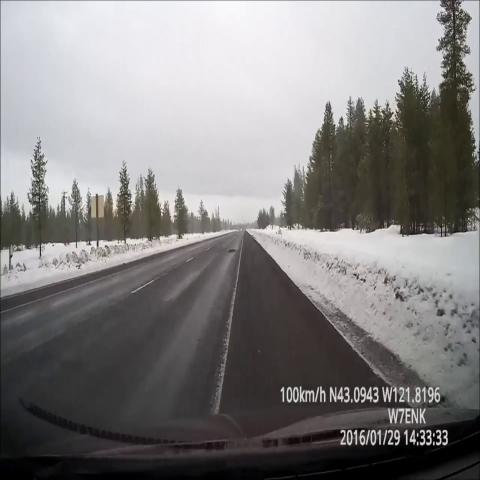pothole: (224, 238, 240, 262)
